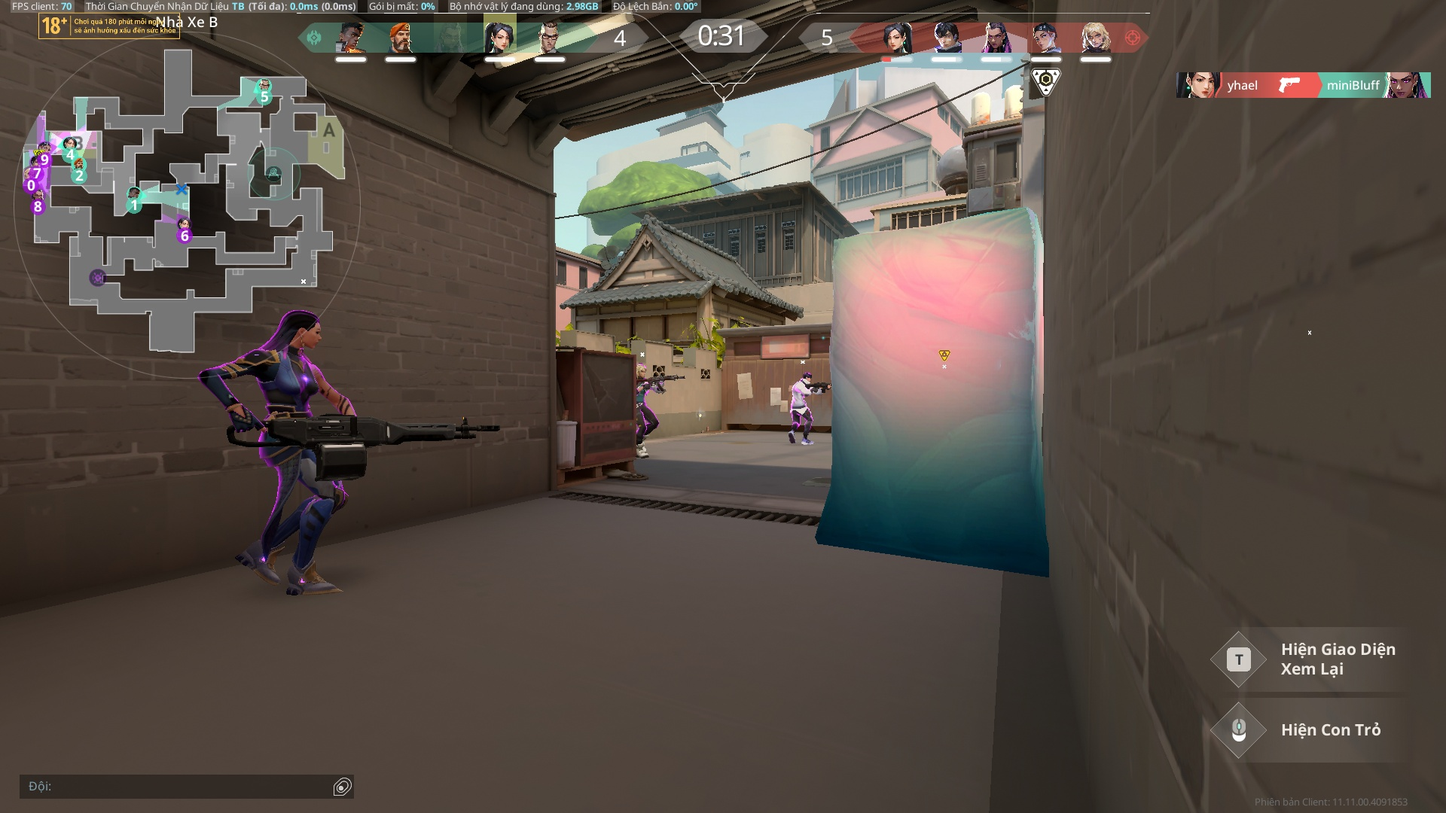body: (257, 335, 324, 424), (790, 379, 809, 410), (635, 375, 649, 403)
head: (279, 307, 325, 355), (636, 363, 647, 376), (801, 370, 812, 382)
